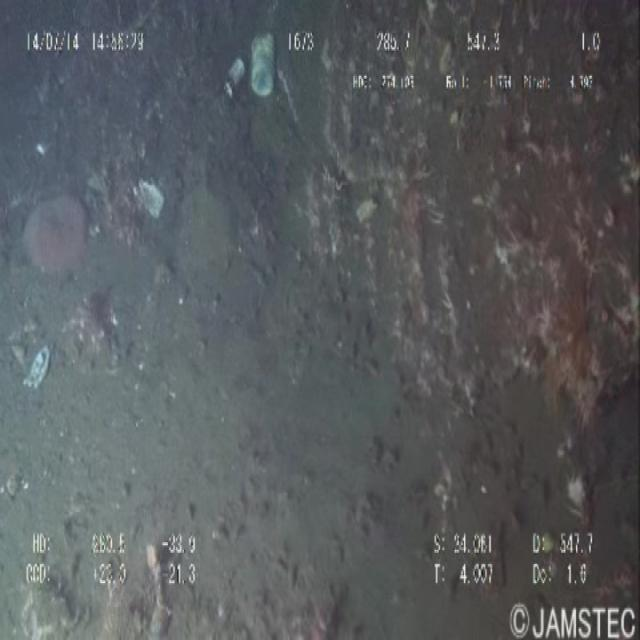Glass: (249, 18, 283, 100), (222, 42, 250, 109)
Litter: (19, 335, 52, 397), (133, 164, 165, 226)
